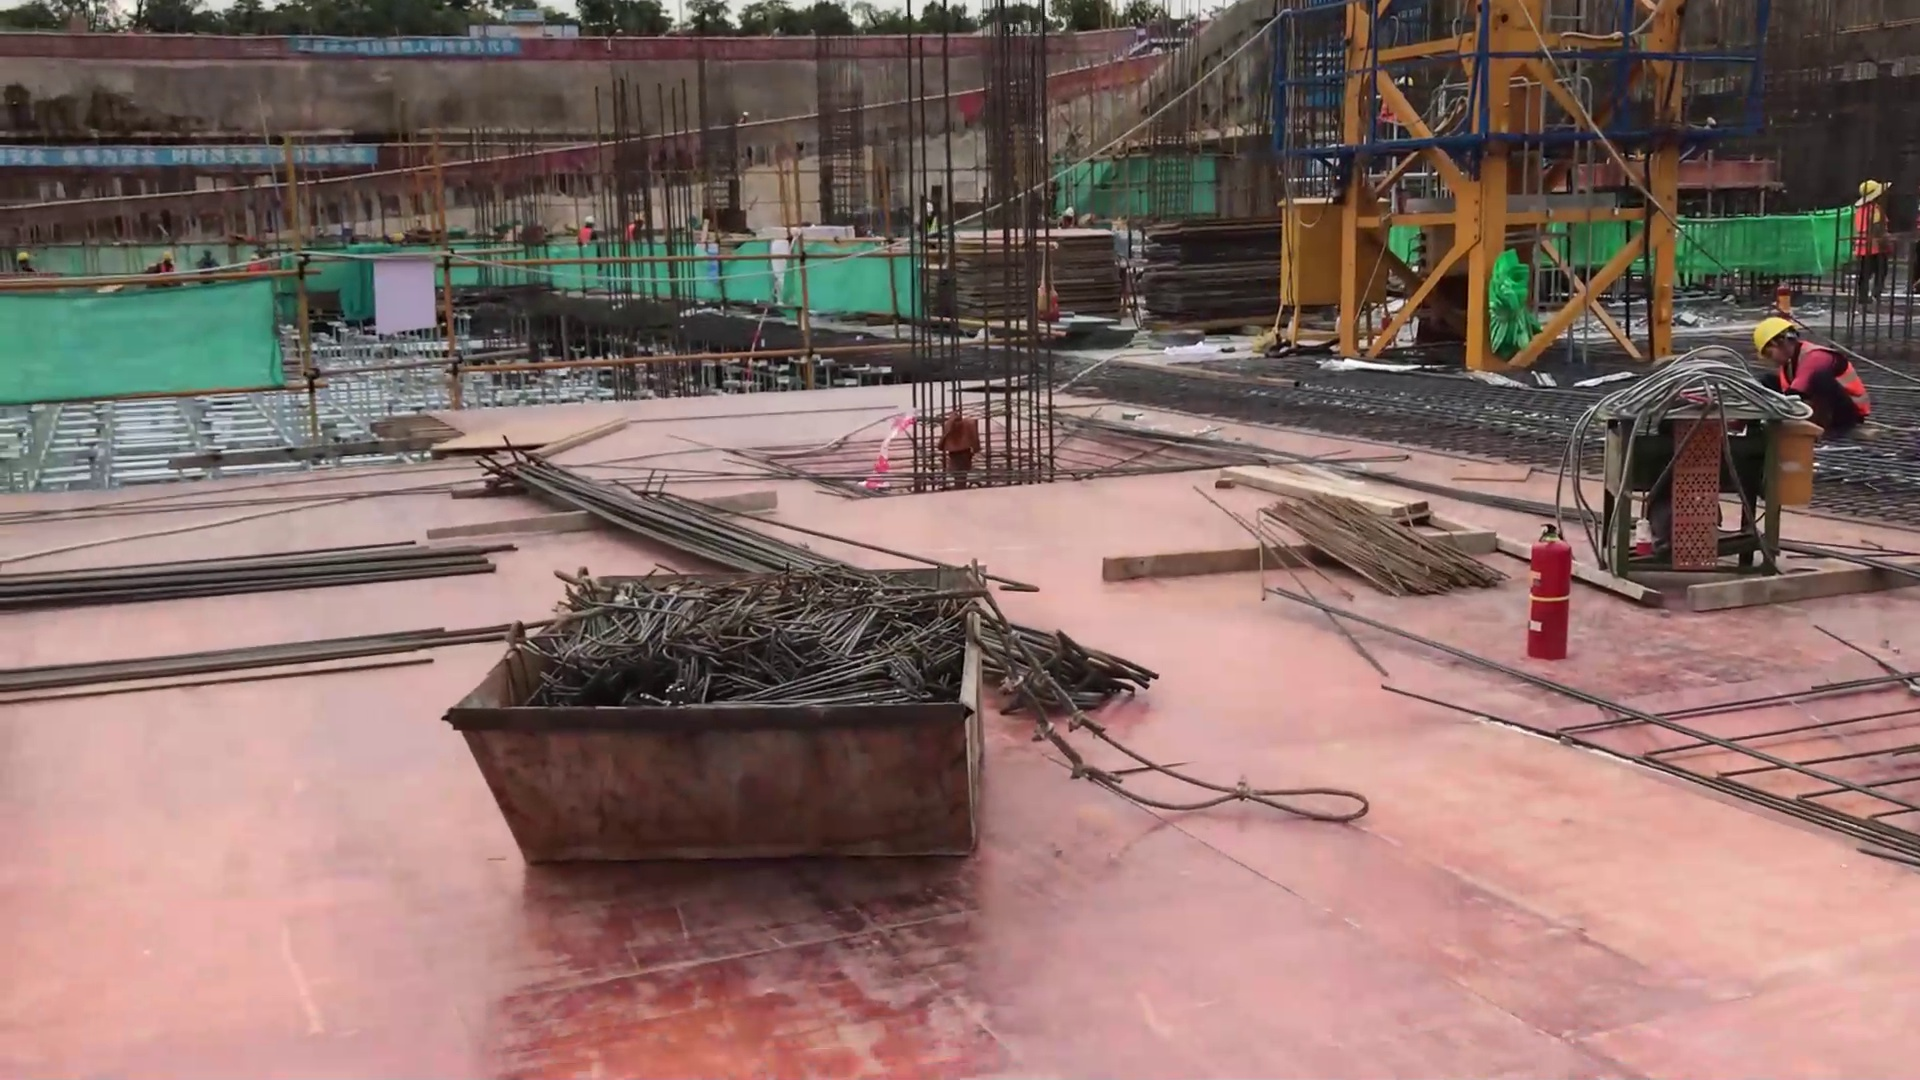board: (944, 220, 1126, 339), (1138, 215, 1286, 331)
helmet: (1745, 312, 1803, 362)
hopper: (446, 563, 999, 865)
person: (1745, 313, 1875, 438), (1847, 173, 1888, 313)
rebar: (467, 428, 1160, 705), (1, 537, 501, 701)
slogan: (9, 133, 375, 175)
vest: (1777, 343, 1867, 420), (1854, 205, 1885, 271)
